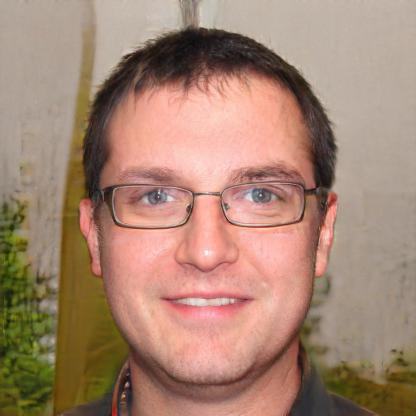glasses: (101, 176, 315, 235)
